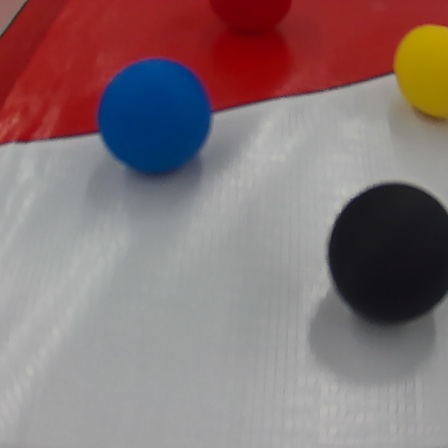black: (328, 182, 448, 327)
blue: (91, 55, 224, 177)
red: (210, 2, 295, 31)
red_base: (1, 0, 448, 139)
yellow: (392, 24, 448, 121)
